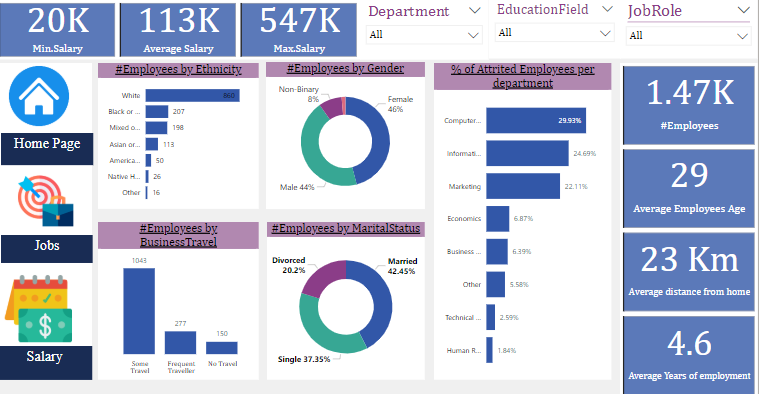

What the dashboard file says about the page in this screenshot:
{"tool":"powerbi","page":{"name":"Employees","canvas":[1280,720],"ordinal":1},"visuals":[{"type":"group","id":"g1","title":"Group 1","box":[1.7,160.3,160.3,531],"z":0},{"type":"image","box":[6.4,160.3,130.5,111.1],"z":0,"group":"g1"},{"type":"donutChart","fields":{"Category":["Employee.Gender"],"Y":["_Dax Measures.#Employees"]},"box":[453.3,158.3,266.7,246.7],"z":1000},{"type":"cardVisual","fields":{"Data":["_Dax Measures.#Employees","_Dax Measures.Average Employees Age","_Dax Measures.Average distance from home","_Dax Measures.Average Years of employment"]},"box":[1048.3,158.6,231,562.1],"z":1000,"group":"g2"},{"type":"image","box":[32.2,306,102.9,170.4],"z":1000,"group":"g1"},{"type":"cardVisual","fields":{"Data":["_Dax Measures.Min.Salary","_Dax Measures.Average Salary","_Dax Measures.Max.Salary"]},"box":[0,53.4,612.1,100],"z":2000,"group":"g2"},{"type":"barChart","title":"% of Attrited Employees per department","fields":{"Category":["Employee.EducationField"],"Y":["Divide(CountNonNull(Employee.Attrition), ScopedEval(CountNonNull(Employee.Attrition), []))"]},"box":[735,160,298.3,531.7],"z":2000},{"type":"columnChart","fields":{"Category":["Employee.BusinessTravel"],"Y":["_Dax Measures.#Employees"]},"box":[171.7,426.7,270,265],"z":3000},{"type":"image","box":[2.5,511.7,138.5,123.5],"z":3000,"group":"g1"},{"type":"group","id":"g2","title":"Group 2","box":[0,51.7,1279.3,669],"z":4000},{"type":"slicer","fields":{"Values":["Employee.JobRole"]},"box":[1048.3,51.7,231,100],"z":4000,"group":"g2"},{"type":"textbox","box":[7.9,277.1,155.3,54.3],"z":4000,"group":"g1"},{"type":"slicer","fields":{"Values":["Employee.Department"]},"box":[612.1,51.7,215.5,101.7],"z":5000,"group":"g2"},{"type":"donutChart","fields":{"Category":["Employee.MaritalStatus"],"Y":["_Dax Measures.#Employees"]},"box":[455,426.7,265,265],"z":5000},{"type":"slicer","fields":{"Values":["Employee.EducationField"]},"box":[827.6,51.7,220.7,100],"z":6000,"group":"g2"},{"type":"clusteredBarChart","fields":{"Category":["Employee.Ethnicity"],"Y":["_Dax Measures.#Employees"]},"box":[171.7,160,270,245],"z":6000},{"type":"textbox","box":[7.9,448.6,154.3,46.9],"z":6000,"group":"g1"},{"type":"textbox","box":[1.7,635.2,160.2,56.8],"z":8000,"group":"g1"}]}

Visuals, with their boxes on the page's 1280x720 design canvas (x1, y1, x2, y2). These are canvas units, not pixel positions in the 759x394 screenshot, which may show the page scaled, cropped or inside an application window:
"Group 1" group: 2/160/162/691
image: 6/160/137/271
donutChart - Employee.Gender x _Dax Measures.#Employees: 453/158/720/405
cardVisual - _Dax Measures.#Employees x _Dax Measures.Average Employees Age: 1048/159/1279/721
image: 32/306/135/476
cardVisual - _Dax Measures.Min.Salary x _Dax Measures.Average Salary: 0/53/612/153
"% of Attrited Employees per department" barChart: 735/160/1033/692
columnChart - Employee.BusinessTravel x _Dax Measures.#Employees: 172/427/442/692
image: 2/512/141/635
"Group 2" group: 0/52/1279/721
slicer - Employee.JobRole: 1048/52/1279/152
textbox: 8/277/163/331
slicer - Employee.Department: 612/52/828/153
donutChart - Employee.MaritalStatus x _Dax Measures.#Employees: 455/427/720/692
slicer - Employee.EducationField: 828/52/1048/152
clusteredBarChart - Employee.Ethnicity x _Dax Measures.#Employees: 172/160/442/405
textbox: 8/449/162/496
textbox: 2/635/162/692
